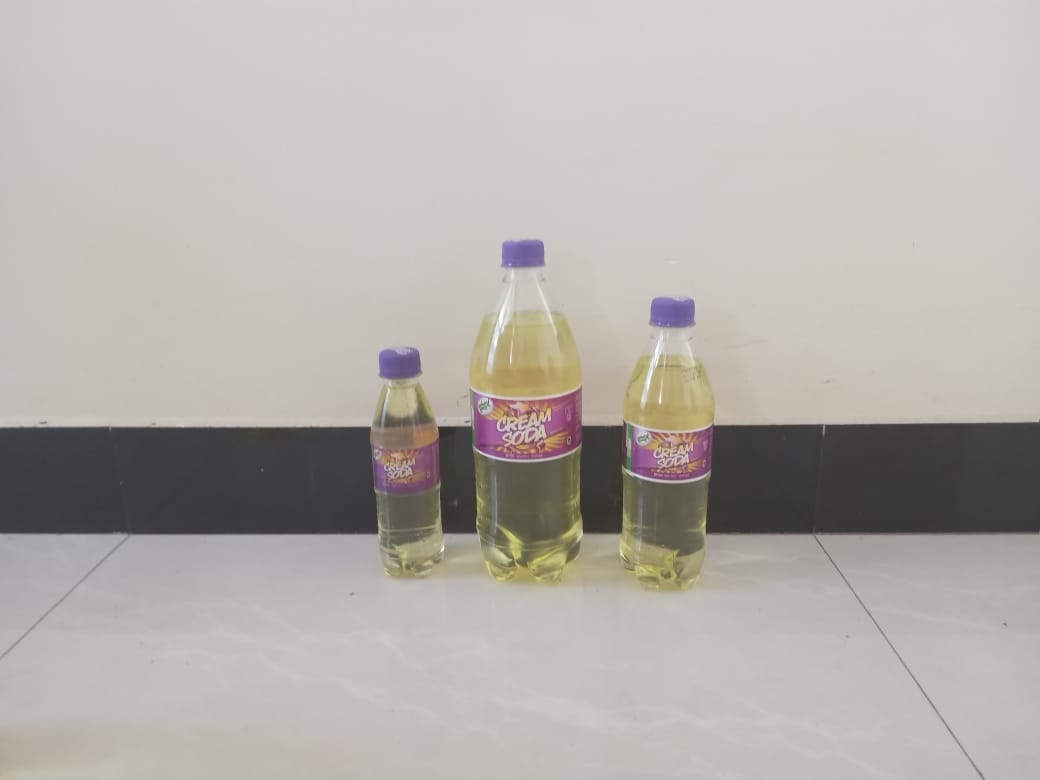M: (467, 240, 588, 589)
S: (616, 296, 719, 597)
Xs: (363, 347, 451, 579)
